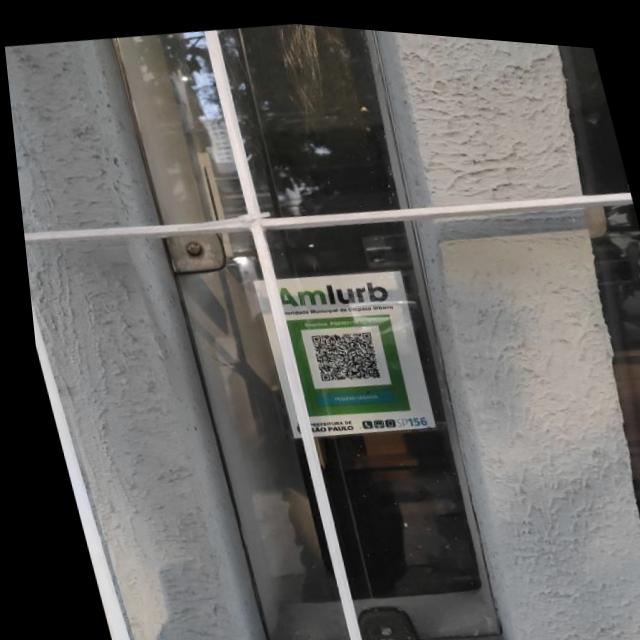qrcode: (304, 323, 376, 382)
